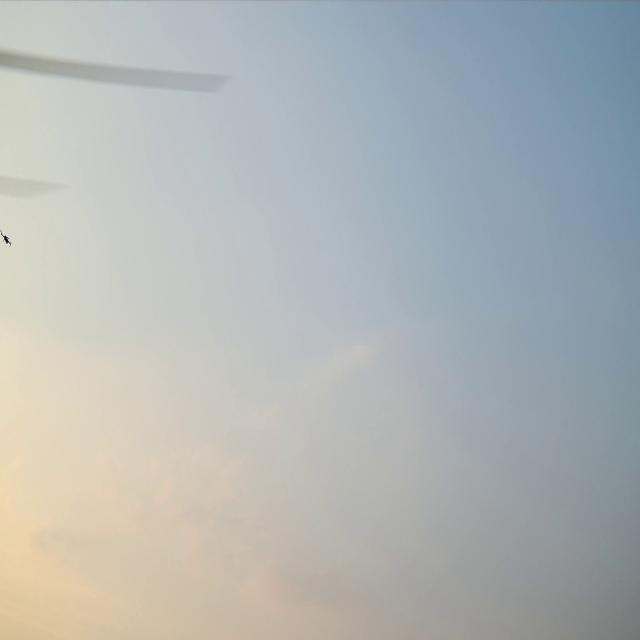UAV: (0, 230, 12, 247)
